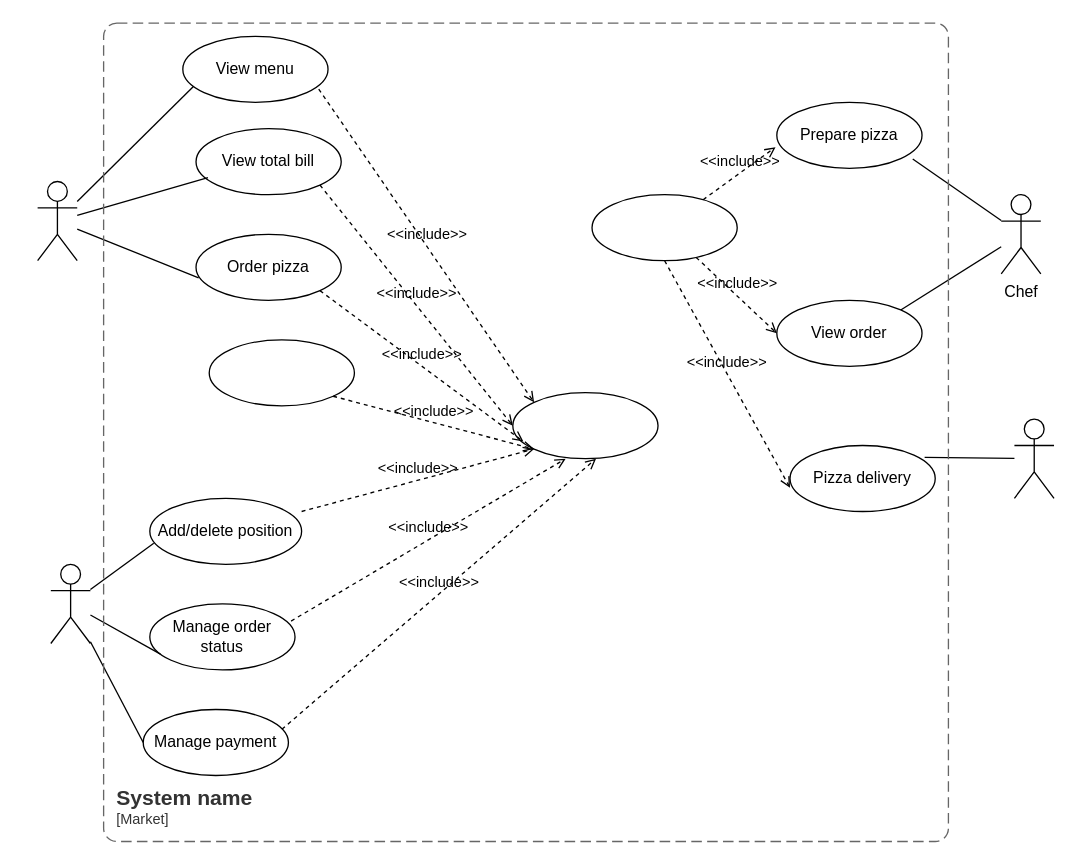
Some shapes in this 1085 by 865 pixel diagram are drawn without their labels. The box of each missing label's shape, as (x1, y1, x2, y2) in pixels:
Admin: (50, 563, 90, 644)
Customer: (36, 180, 77, 261)
Delivery: (1013, 418, 1054, 498)
Log in: (512, 391, 658, 459)
Receive order: (591, 193, 737, 261)
View order tracking: (208, 339, 354, 406)
